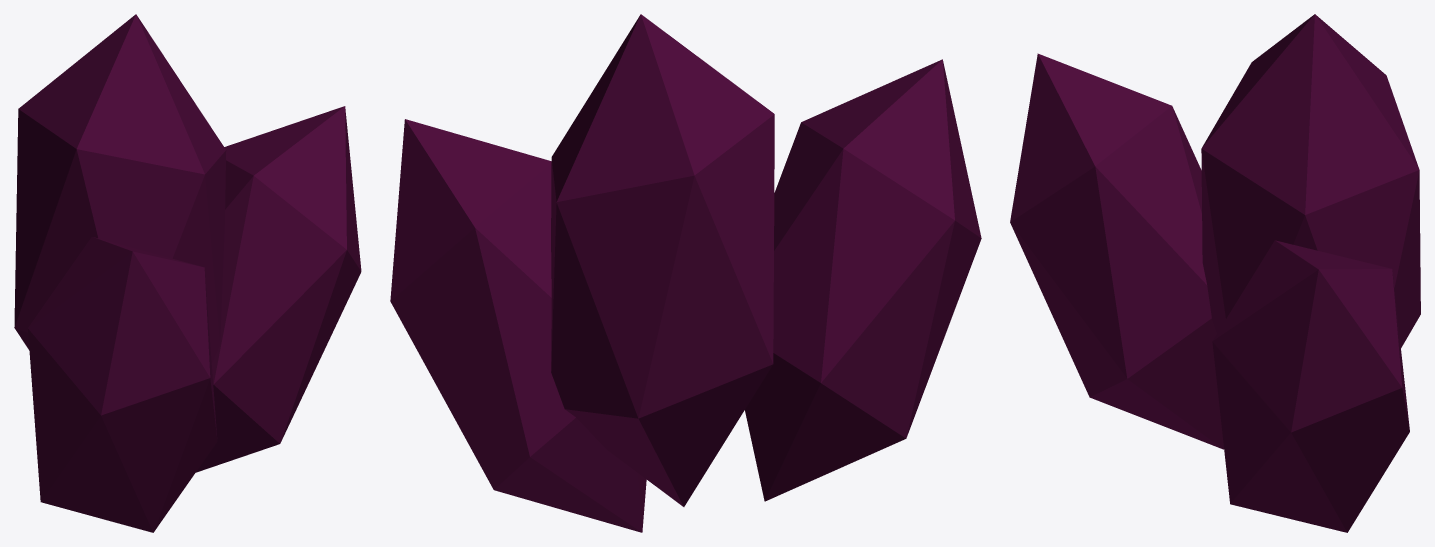
The model's file is crystalCluster01.fbx.
The picture shows the model from 3 angles, left to right: view 1: azimuth 30°, elevation 25°; view 2: azimuth 150°, elevation 25°; view 3: azimuth 270°, elevation 25°; orthographic projection. The views are drawn at different scales.
Parts seen in each view (by area): view 1: 01- floatingCave01.002; view 2: 01- floatingCave01.002; view 3: 01- floatingCave01.002.
Boxes of the visible parts, x1,y1,x2,y2 form: 01- floatingCave01.002: (14,14,361,532); 01- floatingCave01.002: (390,14,981,532); 01- floatingCave01.002: (1010,14,1420,532).
Size of the model in its own units: 759 by 837 by 639.
